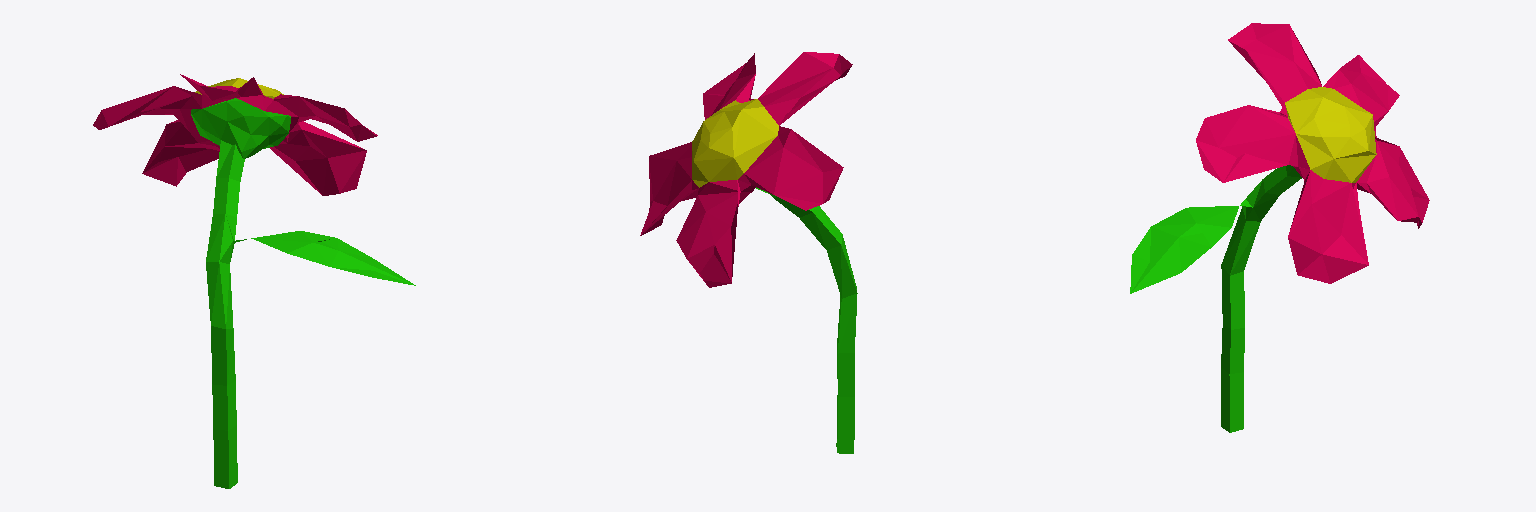
File: Flower5.obj
The picture shows the model from 3 angles: view 1: azimuth 30°, elevation 25°; view 2: azimuth 150°, elevation 25°; view 3: azimuth 270°, elevation 25°; orthographic projection.
Parts seen in each view (by area): view 1: Flower3.002_Plane.012; view 2: Flower3.002_Plane.012; view 3: Flower3.002_Plane.012.
Boxes of the visible parts, box(x1,y1,x2,y2) form: Flower3.002_Plane.012: box(93, 74, 415, 488); Flower3.002_Plane.012: box(640, 52, 857, 453); Flower3.002_Plane.012: box(1130, 23, 1429, 432).
Size of the model in its own units: 0.8978 by 1.48 by 1.01.